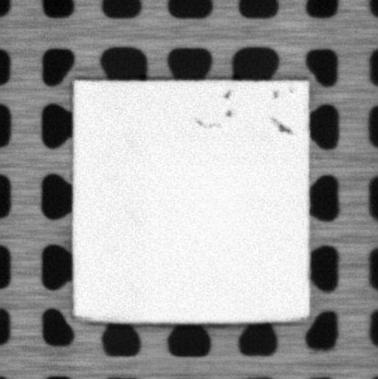DIE_INK: (271, 117, 293, 135), (193, 117, 222, 130), (224, 107, 233, 119), (222, 88, 231, 98), (273, 88, 281, 99)
